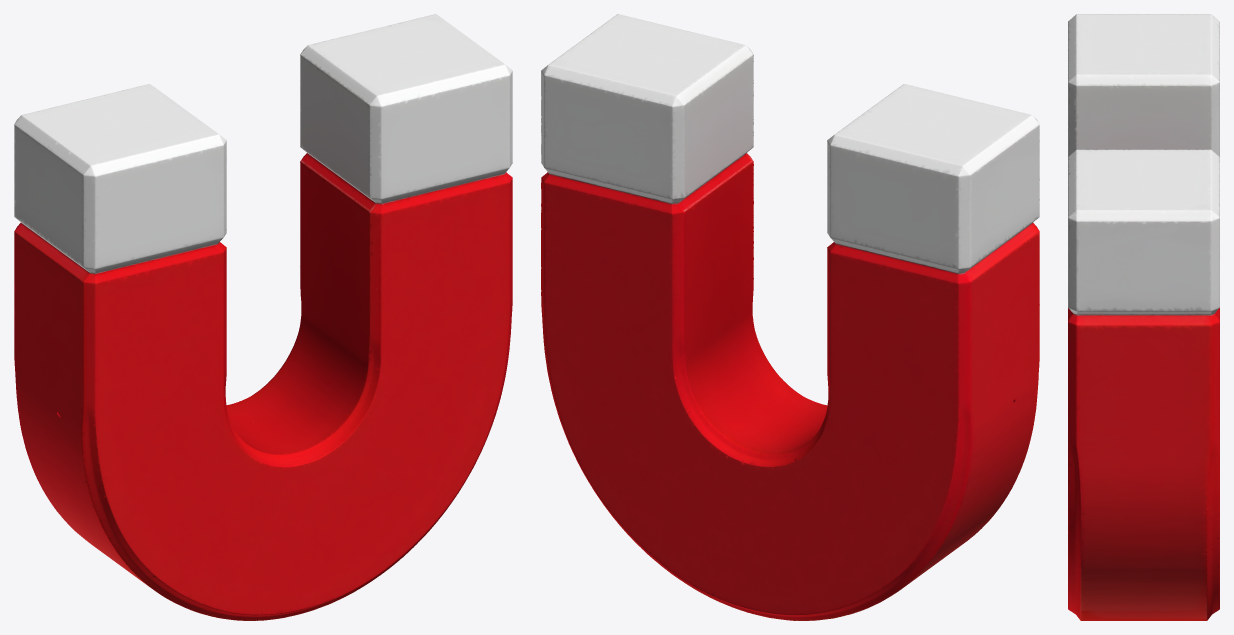
File: Meshy_AI_Magnetic_Power_0128235059_texture.glb
The picture shows the model from 3 angles, left to right: view 1: azimuth 30°, elevation 25°; view 2: azimuth 150°, elevation 25°; view 3: azimuth 270°, elevation 25°; orthographic projection. The views are drawn at different scales.
Bounding box in the file's own units: 1.7 × 1.9 × 0.5365.
Materials: 1 (1 with a texture image).
